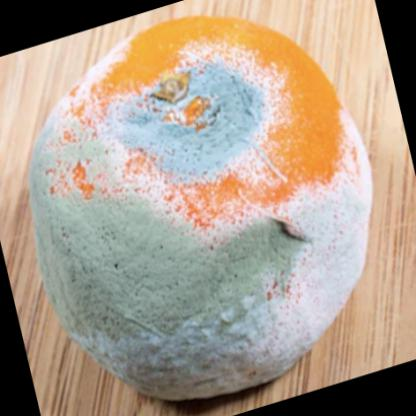rotten_orange: (24, 8, 373, 406)
